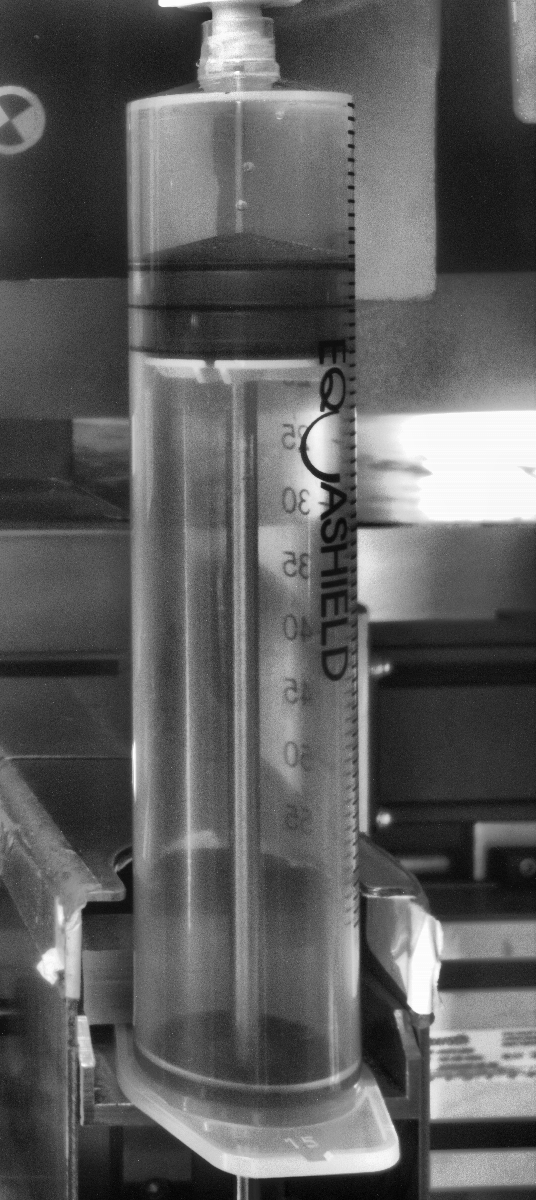piston: (127, 270, 357, 387)
